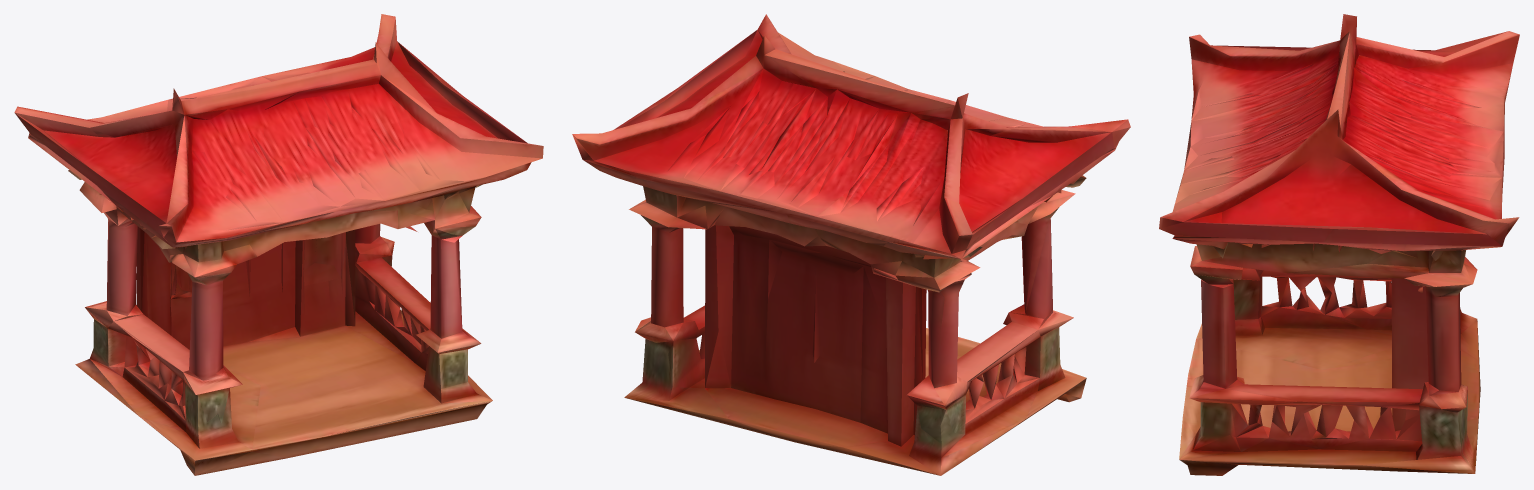
File: m2WoodenBalcony.glb
3 views of the same model, side by side, from view 1: azimuth 30°, elevation 25°; view 2: azimuth 150°, elevation 25°; view 3: azimuth 270°, elevation 25° (orthographic). The views are drawn at different scales.
Visible parts, largest first — view 1: model; view 2: model; view 3: model.
Part boxes in pixels (x1,y1,x2,y2): model: (14,14,543,475); model: (572,14,1130,475); model: (1159,14,1519,475).
Bounding box in the file's own units: 1.91 × 1.58 × 1.48.
Materials: 1 (1 with a texture image).
